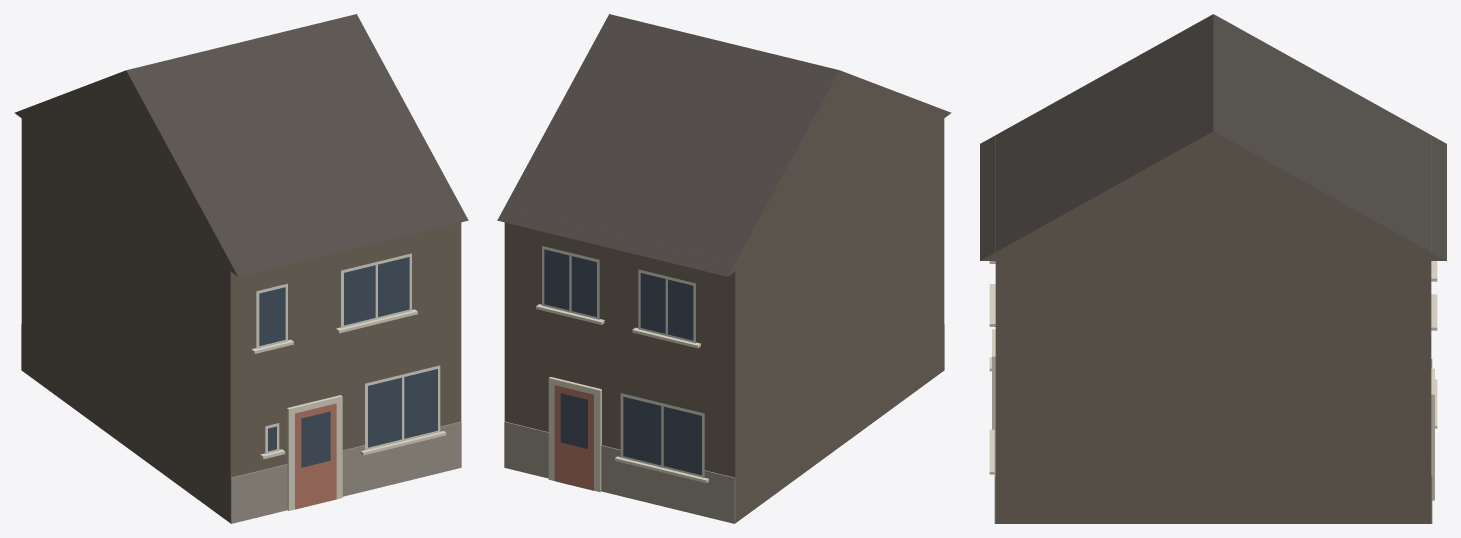
Rendered from nw-rowhouse-render-tile__greige__2__gable__long__solid__mirror.glb.
3 renders of one model, left to right at view 1: azimuth 30°, elevation 25°; view 2: azimuth 150°, elevation 25°; view 3: azimuth 270°, elevation 25°, orthographic. The views are drawn at different scales.
Visible parts, largest first — view 1: nw-rowhouse-render-tile__greige__2__gable__long__solid__mirr; view 2: nw-rowhouse-render-tile__greige__2__gable__long__solid__mirr; view 3: nw-rowhouse-render-tile__greige__2__gable__long__solid__mirr.
Boxes of the visible parts, x1,y1,x2,y2 form: nw-rowhouse-render-tile__greige__2__gable__long__solid__mirr: (14,14,468,523); nw-rowhouse-render-tile__greige__2__gable__long__solid__mirr: (497,14,951,523); nw-rowhouse-render-tile__greige__2__gable__long__solid__mirr: (980,14,1446,523).
Bounding box in the file's own units: 5.27 × 8.23 × 8.87.
